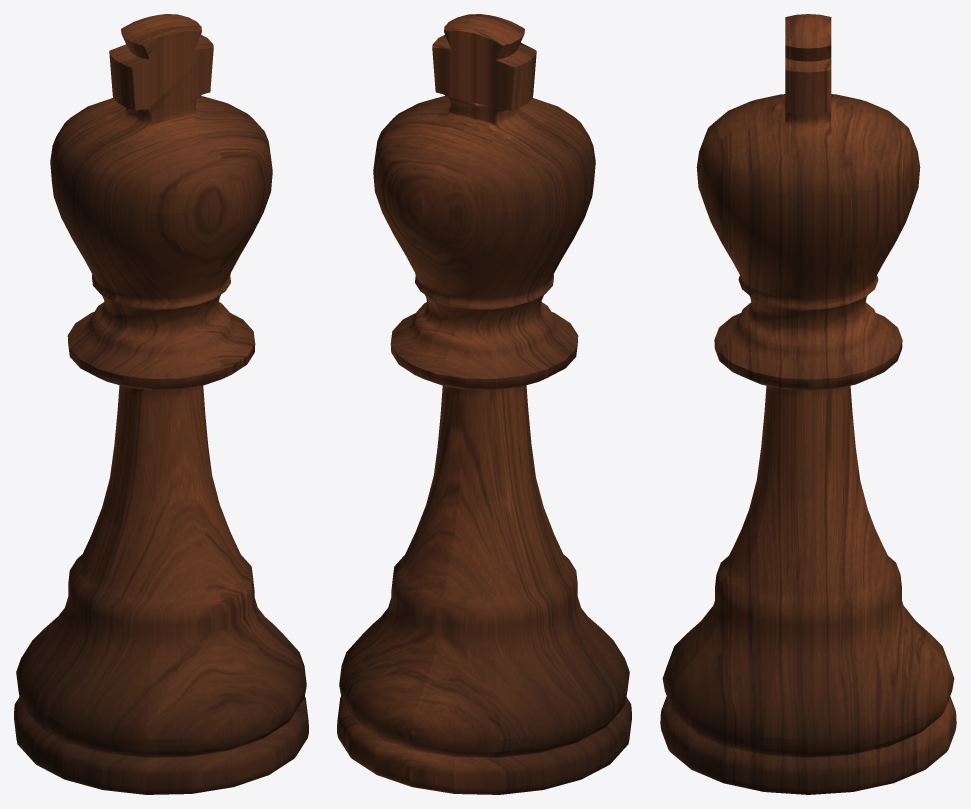
File: preto-rei.obj
3 views of the same model, side by side, from view 1: azimuth 30°, elevation 25°; view 2: azimuth 150°, elevation 25°; view 3: azimuth 270°, elevation 25° (orthographic).
Parts seen in each view (by area): view 1: RE01; view 2: RE01; view 3: RE01.
Part boxes in pixels (x1=…): RE01: x1=14, y1=14, x2=308, y2=794; RE01: x1=337, y1=14, x2=631, y2=794; RE01: x1=660, y1=14, x2=956, y2=794.
Size of the model in its own units: 186 by 494 by 186.
1 material, 1 textured.
